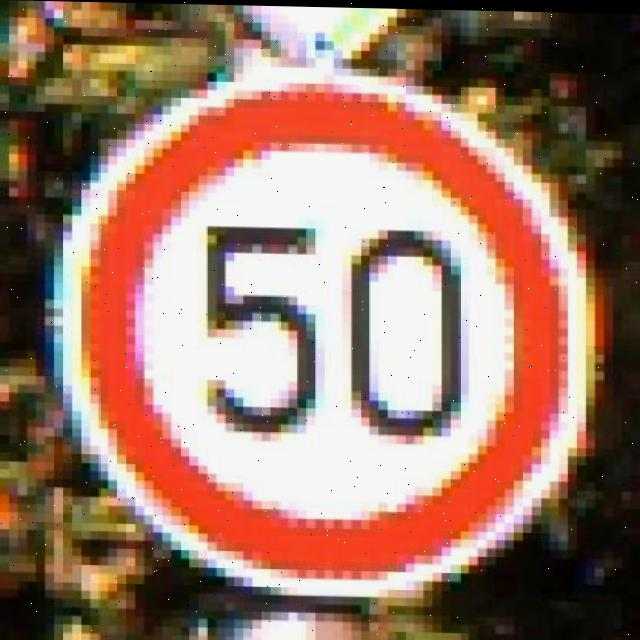Speed limit 50: (72, 75, 592, 593)
